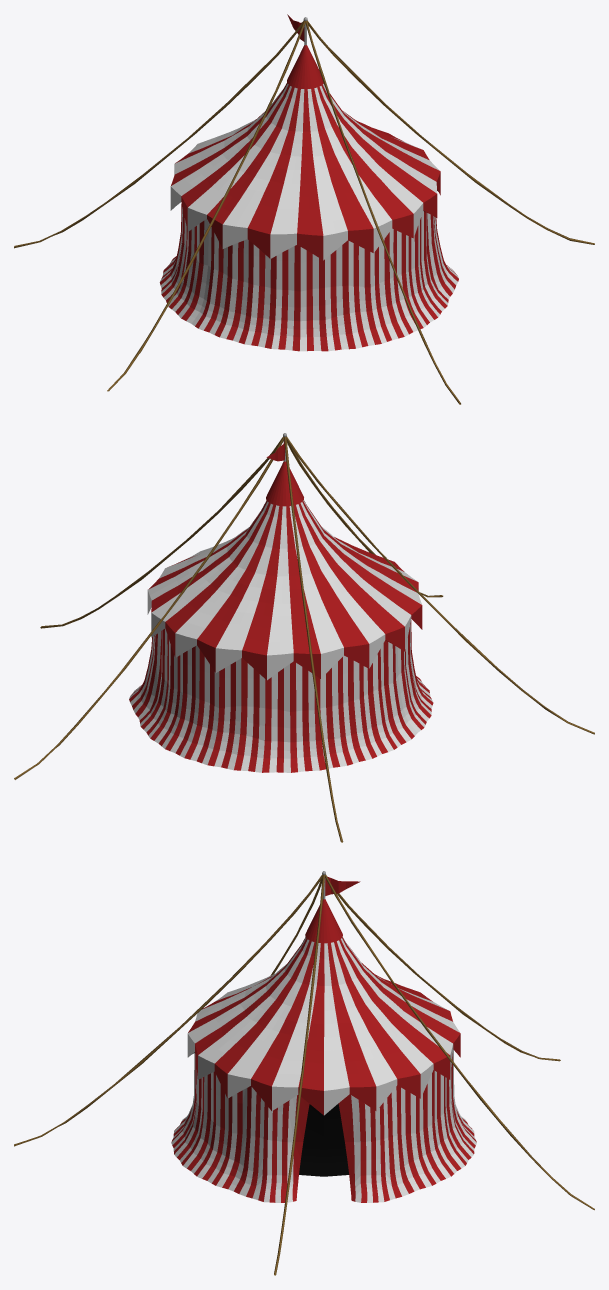
File: circusTent.glb
3 views of the same model, one above another, from view 1: azimuth 30°, elevation 25°; view 2: azimuth 150°, elevation 25°; view 3: azimuth 270°, elevation 25° (orthographic).
Parts seen in each view (by area): view 1: Cylinder.001_Tent_0; view 2: Cylinder.001_Tent_0; view 3: Cylinder.001_Tent_0.
Part boxes in pixels (<box>): Cylinder.001_Tent_0: <box>14,14,594,404</box>; Cylinder.001_Tent_0: <box>14,433,594,842</box>; Cylinder.001_Tent_0: <box>14,871,594,1275</box>.
Bounding box in the file's own units: 8.01 × 4.07 × 7.79.
Materials: 1 (1 with a texture image).
